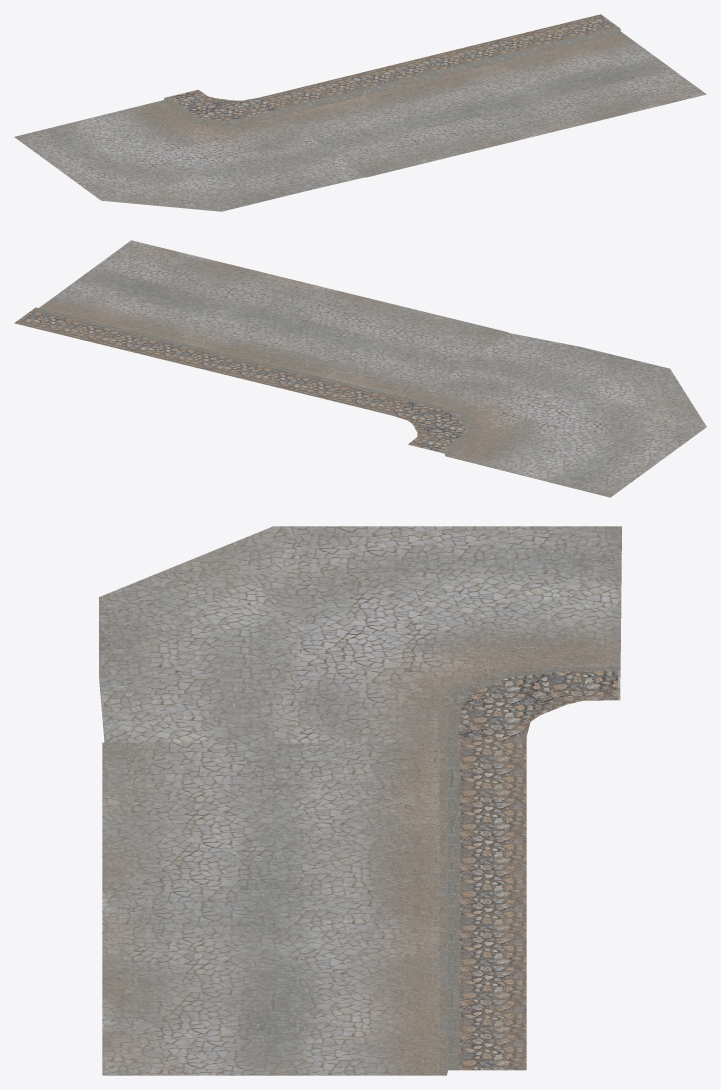
Rendered from RoadCorner02.fbx.
3 renders of one model, top to bottom at view 1: azimuth 30°, elevation 25°; view 2: azimuth 150°, elevation 25°; view 3: azimuth 270°, elevation 25°, orthographic. The views are drawn at different scales.
Visible parts, largest first — view 1: polySurface885; view 2: polySurface885; view 3: polySurface885.
Boxes of the visible parts, x1,y1,x2,y2 form: polySurface885: [14, 14, 706, 211]; polySurface885: [14, 240, 706, 497]; polySurface885: [99, 526, 621, 1075].
Bounding box in the file's own units: 4981 × 23.37 × 2004.
